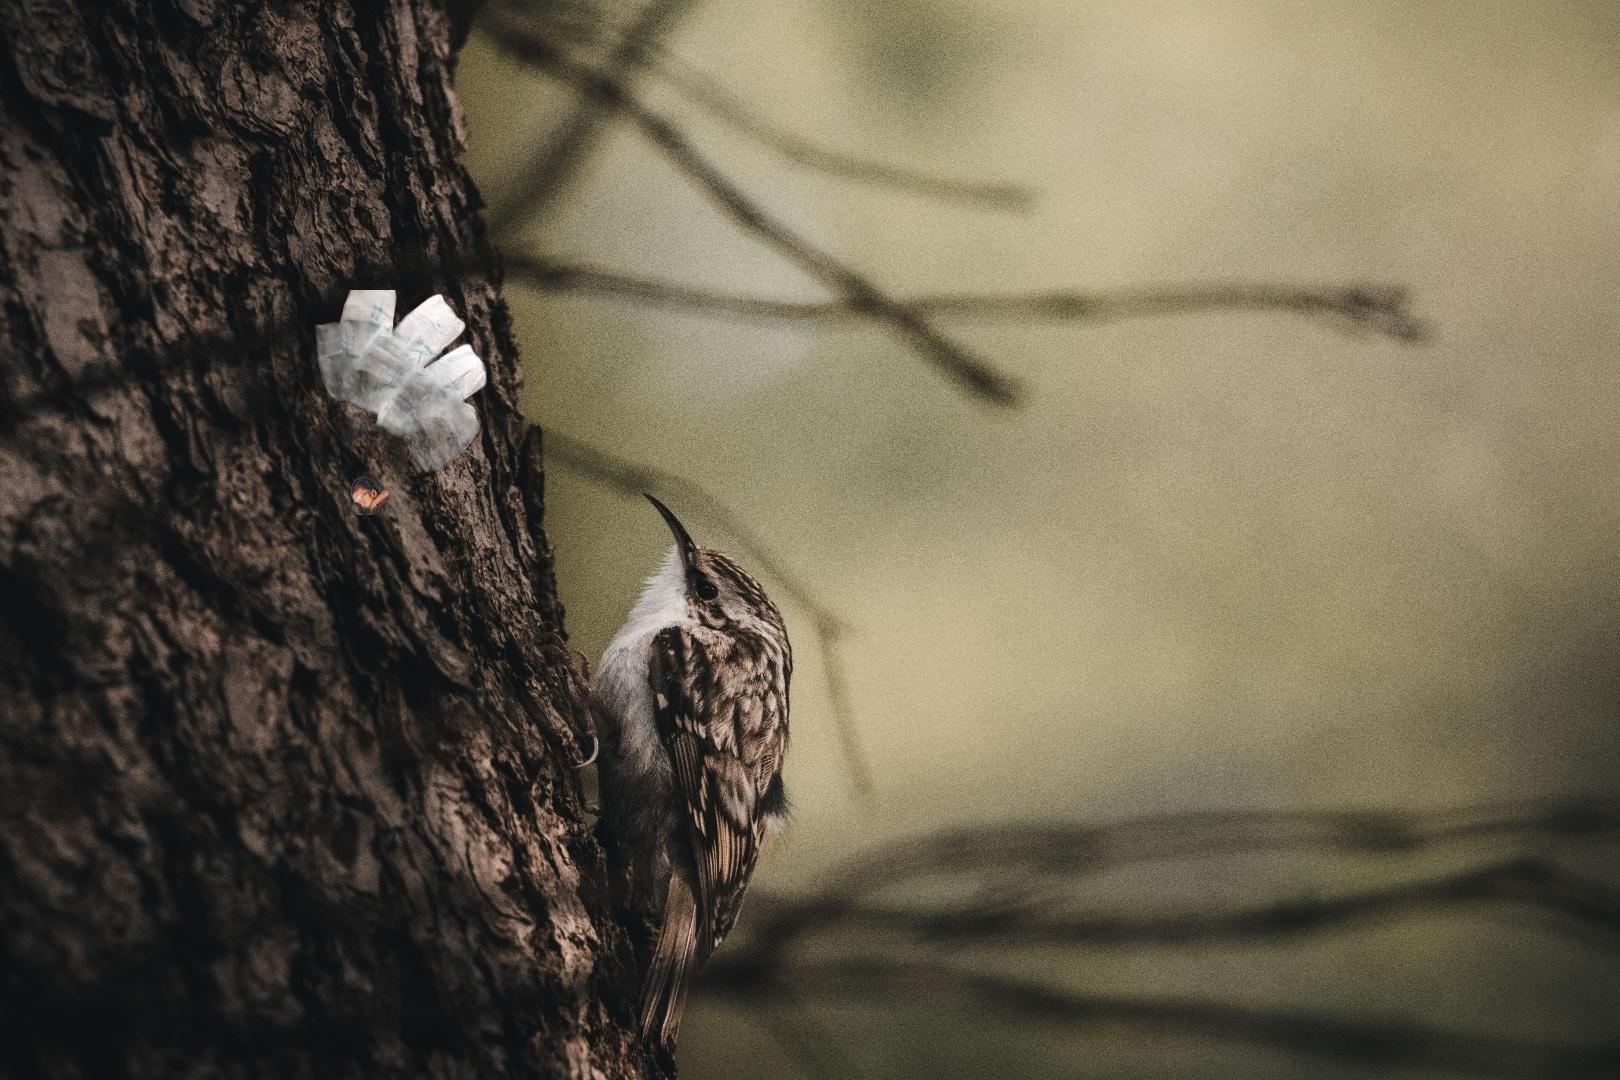trash: (283, 290, 499, 515)
